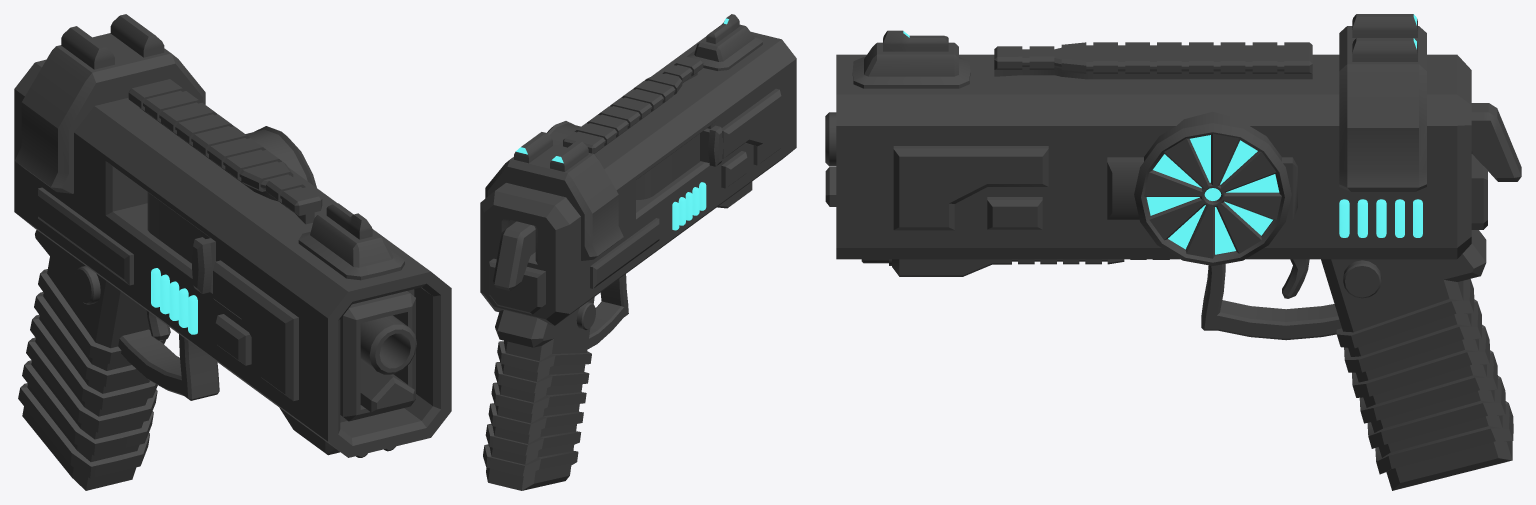
File: gun.fbx
3 views of the same model, side by side, from view 1: azimuth 30°, elevation 25°; view 2: azimuth 150°, elevation 25°; view 3: azimuth 270°, elevation 25° (orthographic). The views are drawn at different scales.
Visible parts, largest first — view 1: Cube; view 2: Cube; view 3: Cube.
Part boxes in pixels (bbox=[...]): Cube: bbox=[14, 14, 451, 490]; Cube: bbox=[480, 14, 796, 490]; Cube: bbox=[825, 14, 1521, 490].
Bounding box in the file's own units: 21.27 × 54.95 × 76.68.
